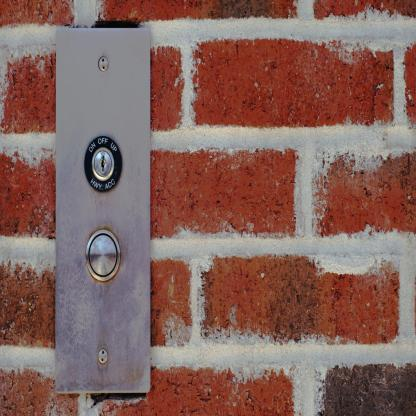empty: (85, 228, 121, 282)
keyhole: (84, 136, 122, 192)
